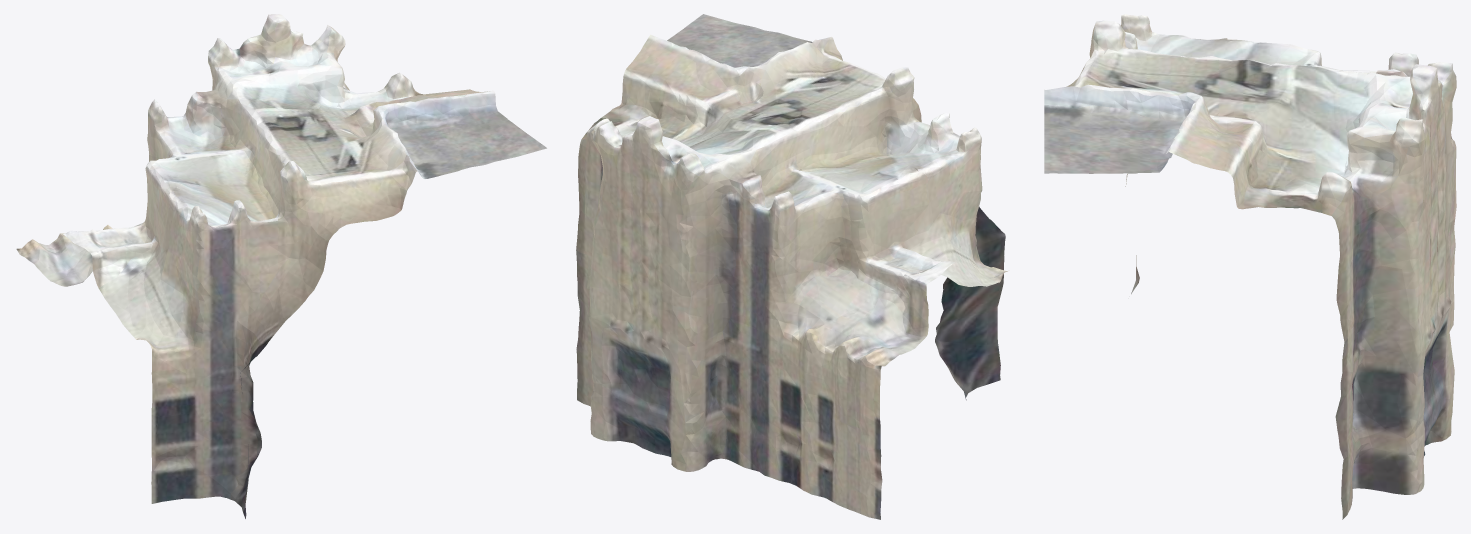
The model's file is Tile_+001_+004_L22_00021230.glb.
3 views of the same model, side by side, from view 1: azimuth 30°, elevation 25°; view 2: azimuth 150°, elevation 25°; view 3: azimuth 270°, elevation 25° (orthographic). The views are drawn at different scales.
Parts seen in each view (by area): view 1: rtc; view 2: rtc; view 3: rtc.
Boxes of the visible parts, <box> form: rtc: <box>16,14,546,518</box>; rtc: <box>576,14,1007,519</box>; rtc: <box>1044,14,1456,519</box>.
Bounding box in the file's own units: 11.09 × 10.01 × 9.56.
Materials: 1 (1 with a texture image).
